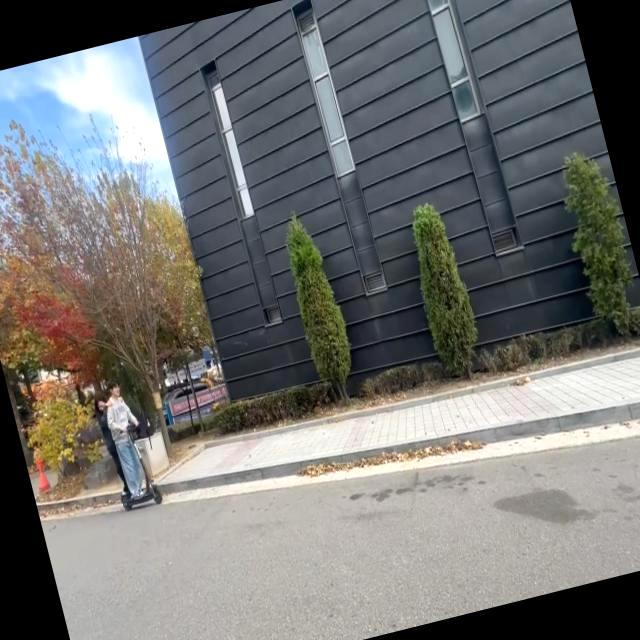bare_head: (108, 381, 121, 399), (93, 398, 106, 411)
human: (106, 382, 147, 496), (93, 398, 129, 497)
kickboard: (121, 484, 162, 513)
